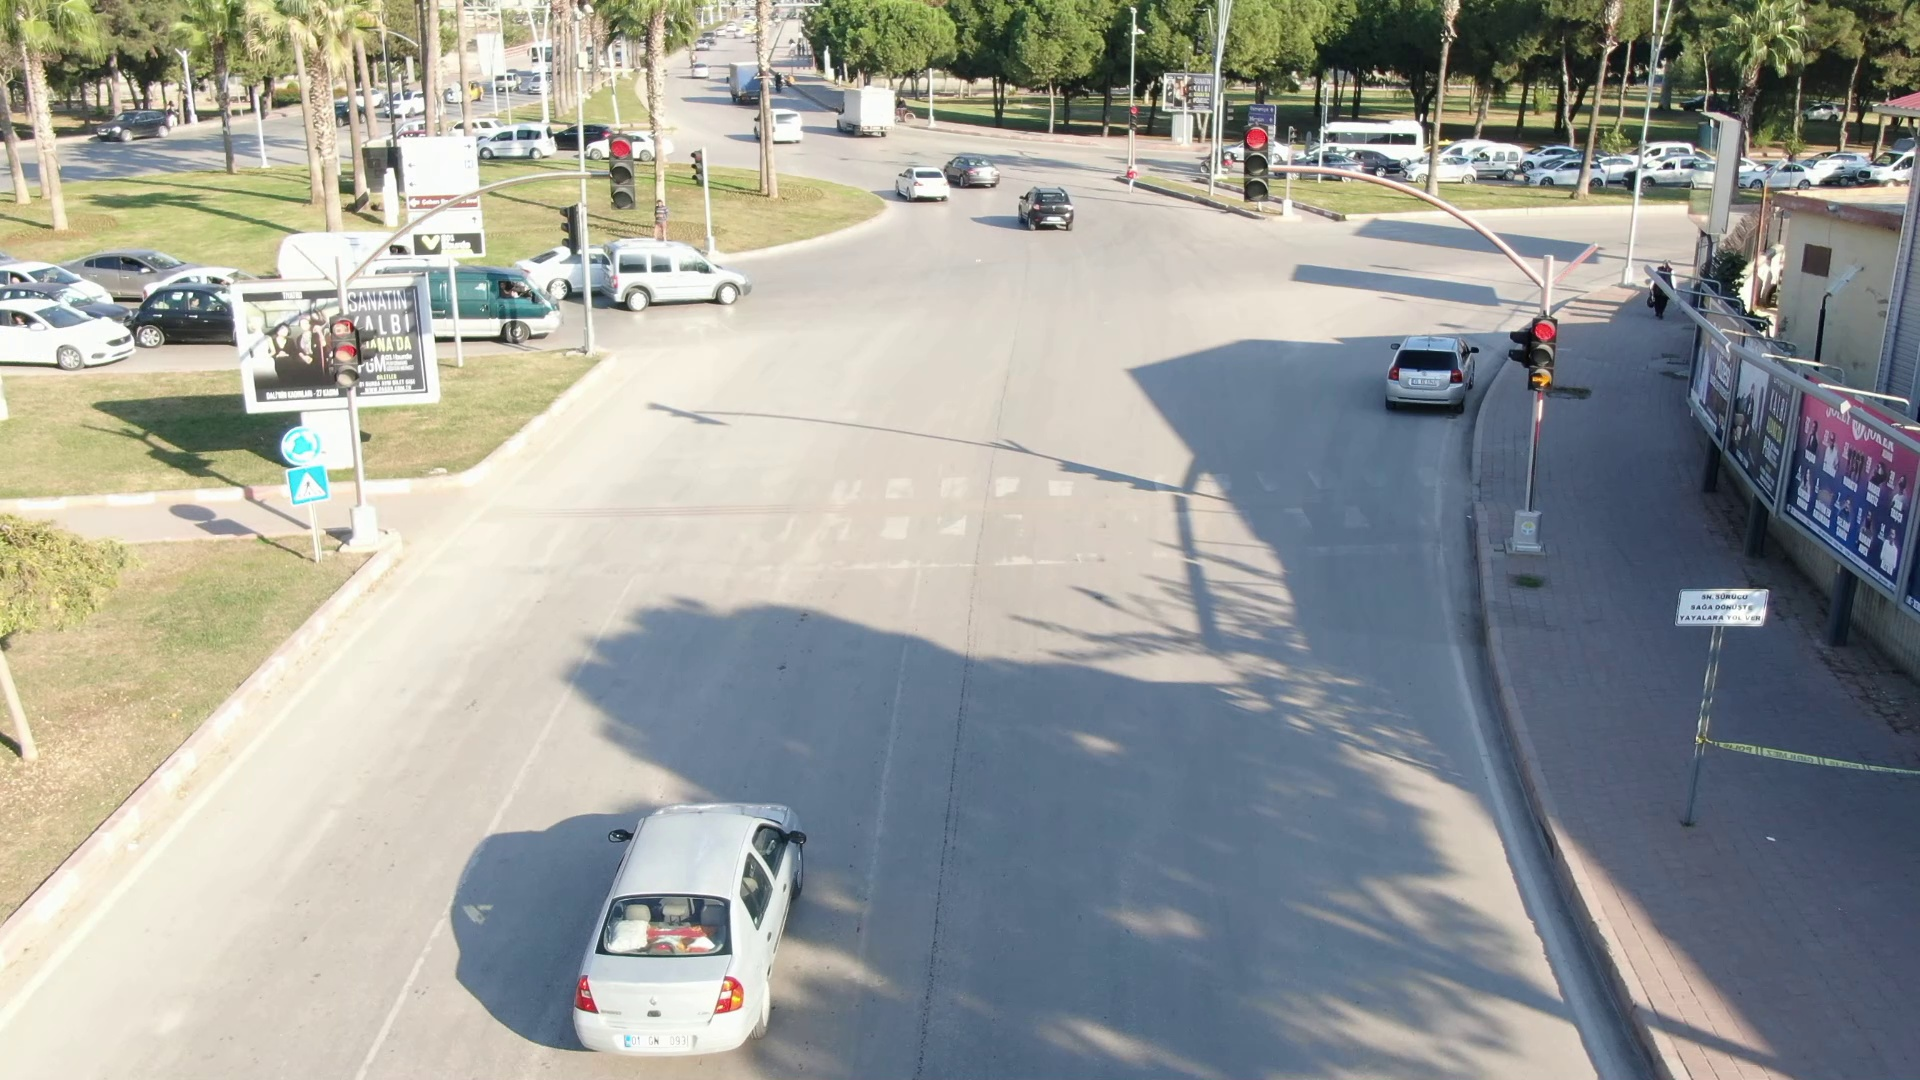car: (506, 746, 872, 1050), (589, 232, 757, 328), (1370, 322, 1491, 427), (824, 83, 909, 146), (1005, 177, 1091, 237), (880, 157, 953, 208), (943, 152, 1007, 194)
